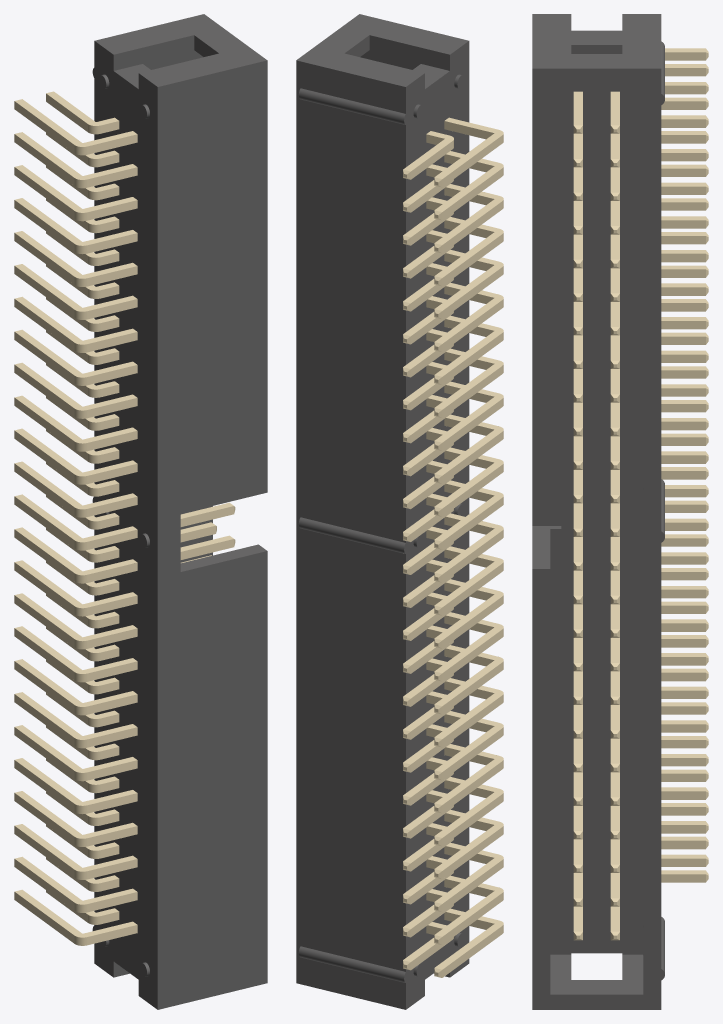
File: IDC-Header_2x25_P2.54mm_Horizontal.glb
The picture shows the model from 3 angles, left to right: view 1: azimuth 30°, elevation 25°; view 2: azimuth 150°, elevation 25°; view 3: azimuth 270°, elevation 25°; orthographic projection. The views are drawn at different scales.
Visible parts, largest first — view 1: Shape_IndexedFaceSet, Shape_IndexedFaceSet.007, Shape_IndexedFaceSet.001, Shape_IndexedFaceSet.011, Shape_IndexedFaceSet.229, Shape_IndexedFaceSet.246, Shape_IndexedFaceSet.014, Shape_IndexedFaceSet.230, Shape_IndexedFaceSet.247, Shape_IndexedFaceSet.297, Shape_IndexedFaceSet.076, Shape_IndexedFaceSet.093 (+21 smaller); view 2: Shape_IndexedFaceSet.008, Shape_IndexedFaceSet.007, Shape_IndexedFaceSet.001, Shape_IndexedFaceSet.009, Shape_IndexedFaceSet.023, Shape_IndexedFaceSet.025, Shape_IndexedFaceSet.024, Shape_IndexedFaceSet.433, Shape_IndexedFaceSet.314, Shape_IndexedFaceSet.042, Shape_IndexedFaceSet.229, Shape_IndexedFaceSet.246 (+47 smaller); view 3: Shape_IndexedFaceSet.017, Shape_IndexedFaceSet.002, Shape_IndexedFaceSet.001, Shape_IndexedFaceSet.013, Shape_IndexedFaceSet.004, Shape_IndexedFaceSet.007, Shape_IndexedFaceSet.005, Shape_IndexedFaceSet.026, Shape_IndexedFaceSet.433, Shape_IndexedFaceSet.858, Shape_IndexedFaceSet.076, Shape_IndexedFaceSet.161 (+51 smaller).
Boxes of the visible parts, x1,y1,x2,y2 form: Shape_IndexedFaceSet: (157,60,267,1009); Shape_IndexedFaceSet.007: (92,41,157,1009); Shape_IndexedFaceSet.001: (95,14,266,86); Shape_IndexedFaceSet.011: (113,35,194,70); Shape_IndexedFaceSet.229: (15,527,233,575); Shape_IndexedFaceSet.246: (15,494,233,542); Shape_IndexedFaceSet.014: (142,50,212,562); Shape_IndexedFaceSet.230: (87,539,234,582); Shape_IndexedFaceSet.247: (87,506,234,549); Shape_IndexedFaceSet.297: (14,395,136,443); Shape_IndexedFaceSet.076: (15,824,136,871); Shape_IndexedFaceSet.093: (15,791,136,838); Shape_IndexedFaceSet.008: (296,60,405,1009); Shape_IndexedFaceSet.007: (404,41,469,1009); Shape_IndexedFaceSet.001: (296,14,468,86); Shape_IndexedFaceSet.009: (369,35,449,70); Shape_IndexedFaceSet.023: (298,946,405,982); Shape_IndexedFaceSet.025: (298,88,405,124); Shape_IndexedFaceSet.024: (298,517,405,553); Shape_IndexedFaceSet.433: (435,117,503,178); Shape_IndexedFaceSet.314: (434,381,503,442); Shape_IndexedFaceSet.042: (435,908,503,969); Shape_IndexedFaceSet.229: (434,546,503,607); Shape_IndexedFaceSet.246: (435,513,503,574); Shape_IndexedFaceSet.017: (550,45,642,954); Shape_IndexedFaceSet.002: (532,68,661,1009); Shape_IndexedFaceSet.001: (532,14,661,68); Shape_IndexedFaceSet.013: (550,954,642,994); Shape_IndexedFaceSet.004: (532,469,561,525); Shape_IndexedFaceSet.007: (643,84,643,954); Shape_IndexedFaceSet.005: (532,526,561,568); Shape_IndexedFaceSet.026: (571,30,622,44); Shape_IndexedFaceSet.433: (573,48,705,125); Shape_IndexedFaceSet.858: (610,64,705,125); Shape_IndexedFaceSet.076: (573,787,705,864); Shape_IndexedFaceSet.161: (573,619,705,696).
Bounding box in the file's own units: 5.34 × 28.02 × 4.76.
